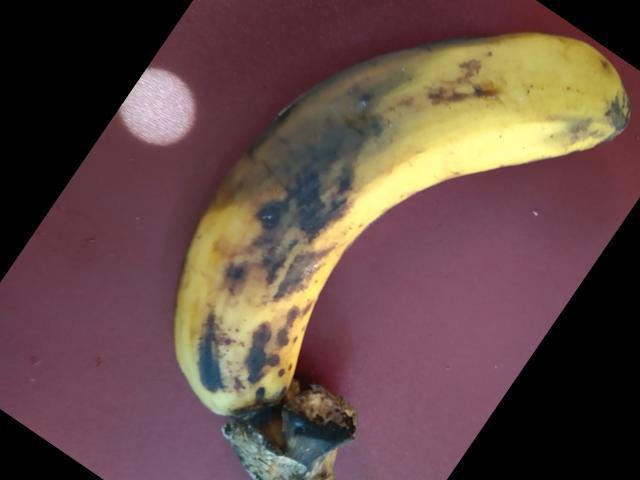rotten: (165, 33, 635, 407)
